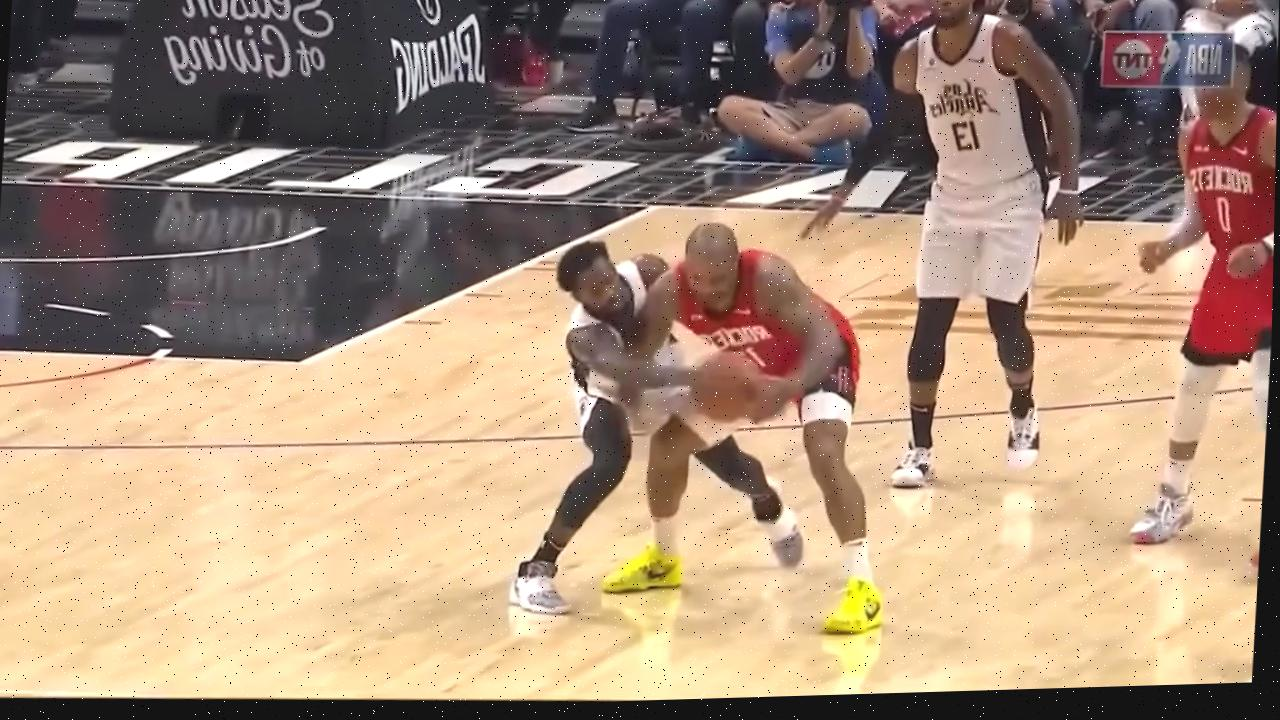no_foul: (466, 218, 899, 662)
